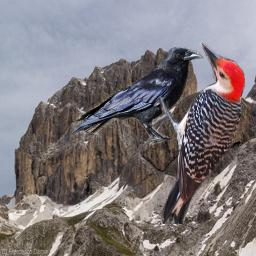Crow: (70, 44, 204, 147)
Woodpecker: (147, 41, 245, 224)
